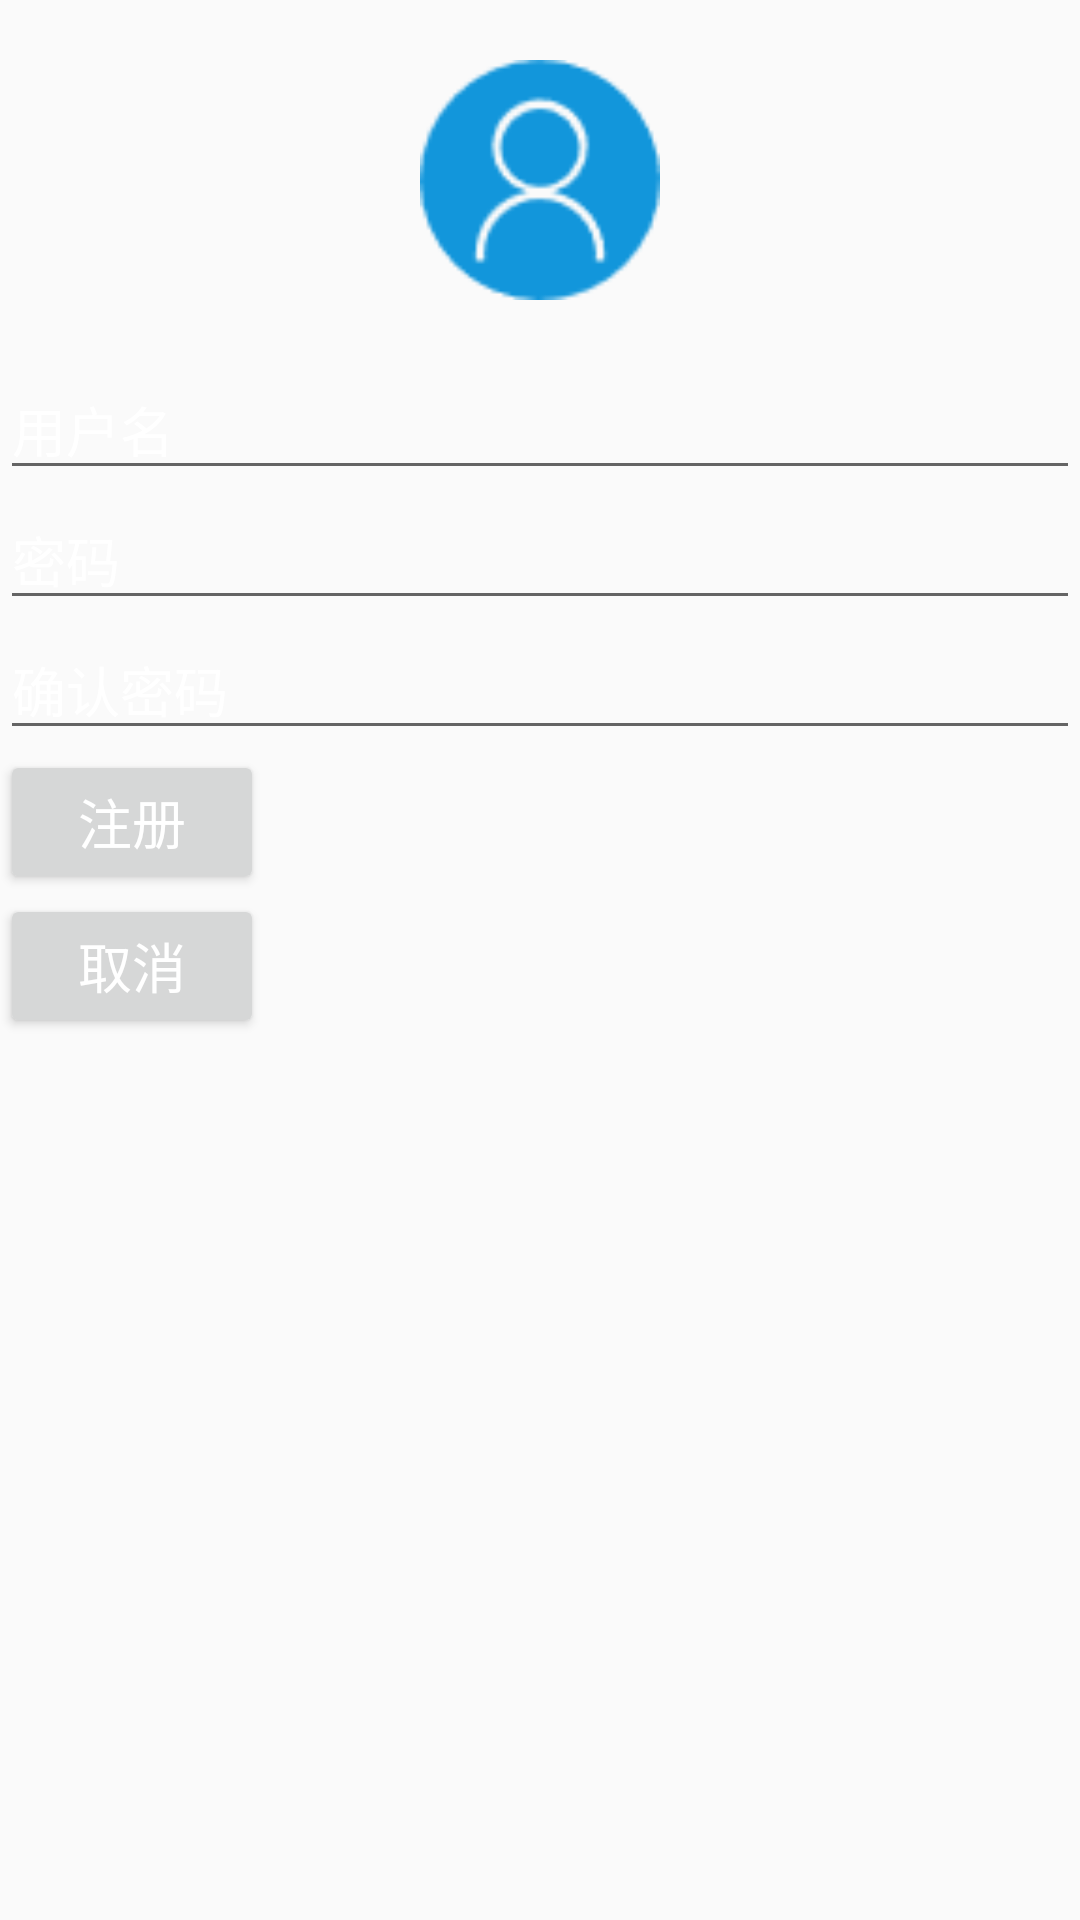

Icon click points for this 1080 × 1920 phone screenshot, format (x=x, y=y):
user: (x=540, y=180)
